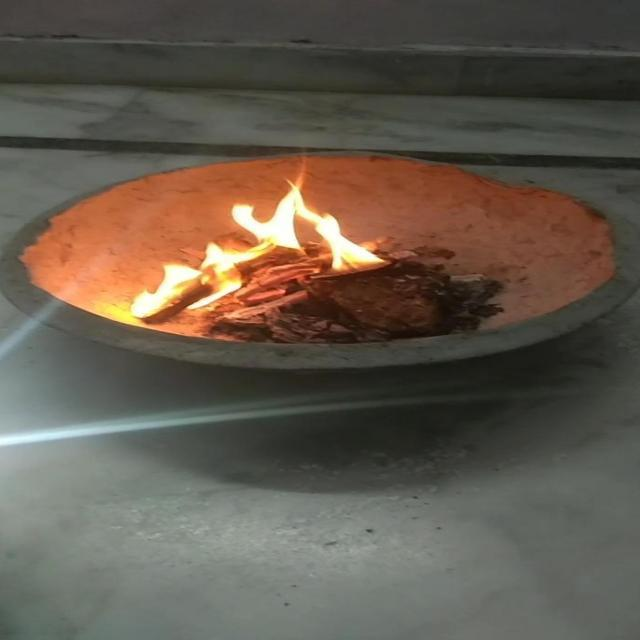smoke: (195, 181, 388, 269), (123, 262, 244, 320)
